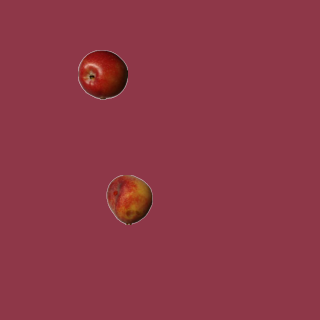Apple Braeburn: (77, 49, 127, 99)
Peach: (104, 174, 154, 224)
